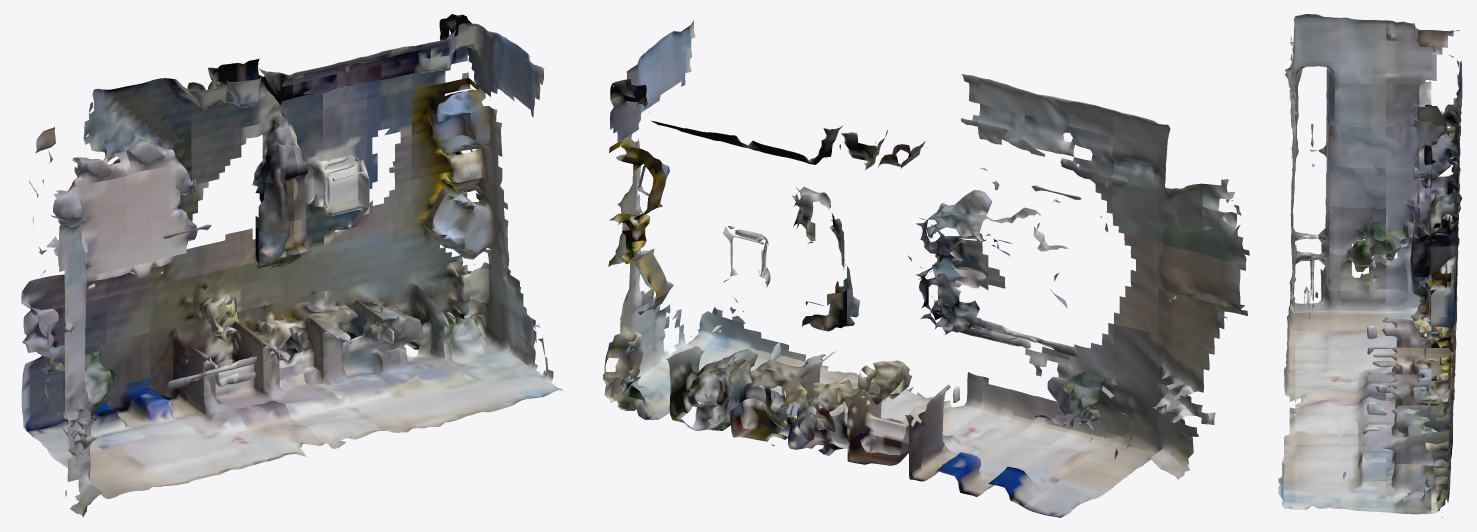
The model's file is sund3d.gltf.
3 renders of one model, left to right at view 1: azimuth 30°, elevation 25°; view 2: azimuth 150°, elevation 25°; view 3: azimuth 270°, elevation 25°, orthographic. The views are drawn at different scales.
Size of the model in its own units: 10.2 by 5.95 by 3.26.
